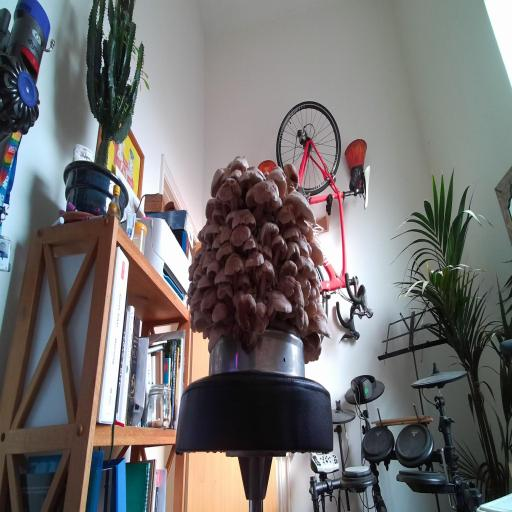Shiitake Mushroom: (233, 171, 291, 225), (275, 185, 327, 228), (224, 281, 263, 335), (197, 312, 240, 354), (245, 252, 283, 299), (270, 269, 315, 308), (217, 246, 252, 290), (300, 310, 341, 347), (243, 296, 277, 339), (274, 296, 314, 332), (259, 162, 296, 200), (213, 171, 245, 213), (222, 216, 258, 253), (225, 322, 264, 356), (231, 161, 270, 195), (252, 212, 285, 252), (239, 242, 270, 283), (264, 284, 294, 321), (289, 254, 324, 285), (206, 189, 238, 221), (192, 284, 225, 314), (289, 268, 318, 302), (272, 201, 299, 237), (212, 275, 239, 310), (268, 230, 291, 266), (207, 161, 227, 200), (306, 235, 327, 271), (210, 238, 239, 264), (281, 156, 302, 191), (309, 299, 335, 325), (230, 207, 258, 231), (187, 287, 207, 316), (290, 214, 314, 238), (262, 197, 286, 221), (196, 247, 220, 270), (186, 263, 209, 287), (201, 257, 225, 279), (301, 296, 322, 321), (245, 162, 269, 183), (193, 307, 213, 332), (222, 202, 240, 229), (240, 232, 259, 257), (296, 233, 312, 262), (191, 242, 209, 267), (257, 242, 278, 263), (203, 194, 217, 222), (211, 300, 228, 323), (278, 259, 299, 277), (217, 222, 234, 244), (194, 272, 216, 289), (203, 221, 220, 243), (285, 240, 301, 262), (230, 156, 249, 174), (186, 260, 200, 284), (236, 270, 251, 292), (213, 267, 232, 284), (304, 332, 321, 351), (216, 166, 235, 183), (282, 225, 300, 242), (300, 310, 312, 335), (229, 164, 244, 184), (304, 348, 321, 364), (303, 225, 317, 244), (209, 234, 223, 252), (185, 280, 199, 298), (212, 207, 224, 227), (310, 288, 317, 299)
